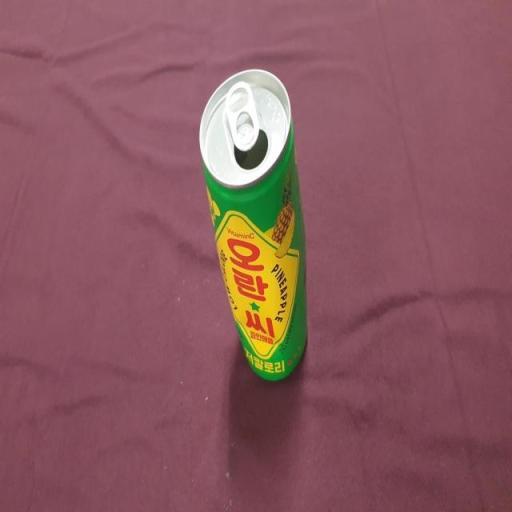metal: (191, 47, 328, 411)
